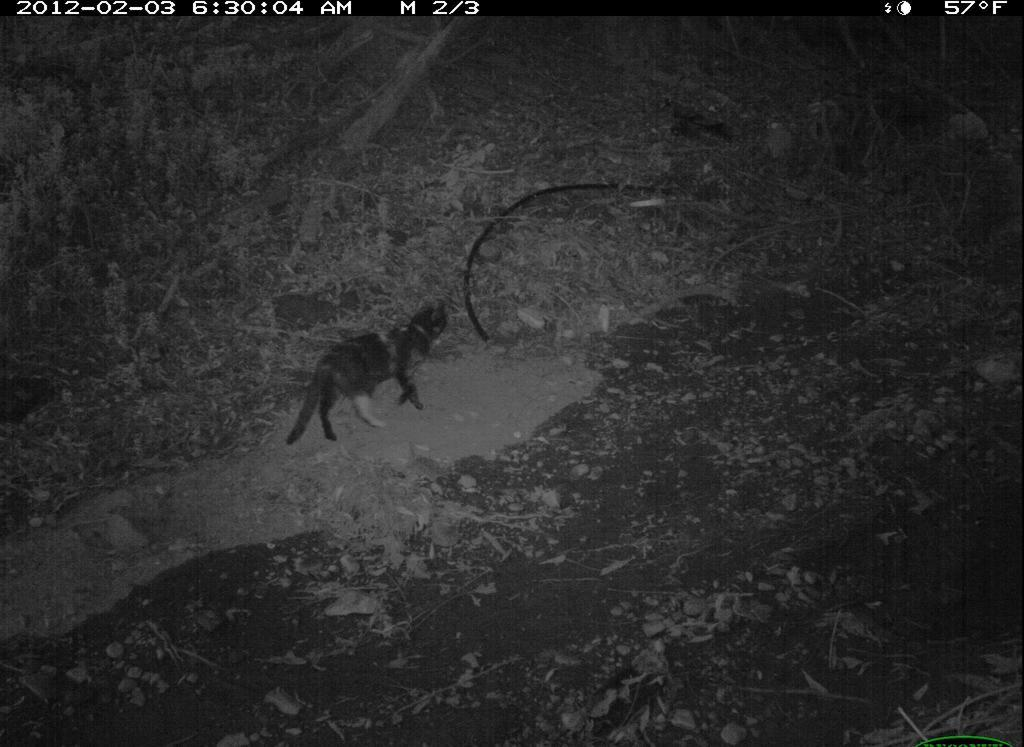cat: (271, 290, 457, 441)
